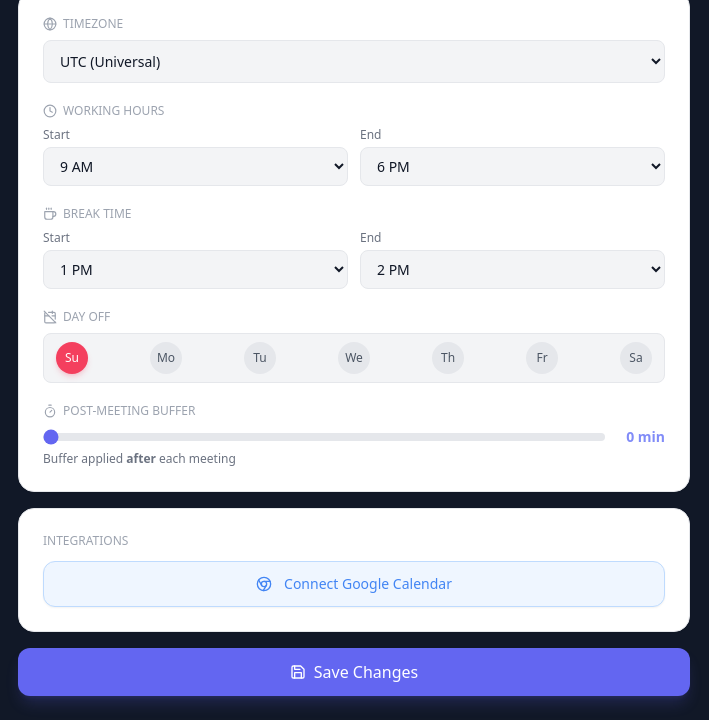
Test: ProfilePage — Save Feedback › shows "Saved!" confirmation after successful save
The width and height of the screenshot is (709, 720).
(page scrolled)
Click the button "Save Changes": (354, 672) [18,648,690,696]
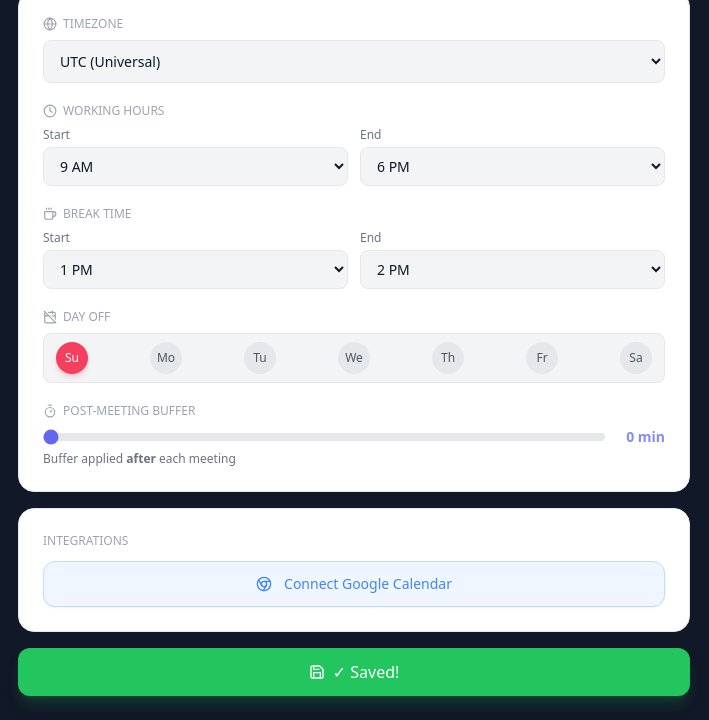
expect the button "✓ Saved!" is shown: met, box [18,648,690,696]
